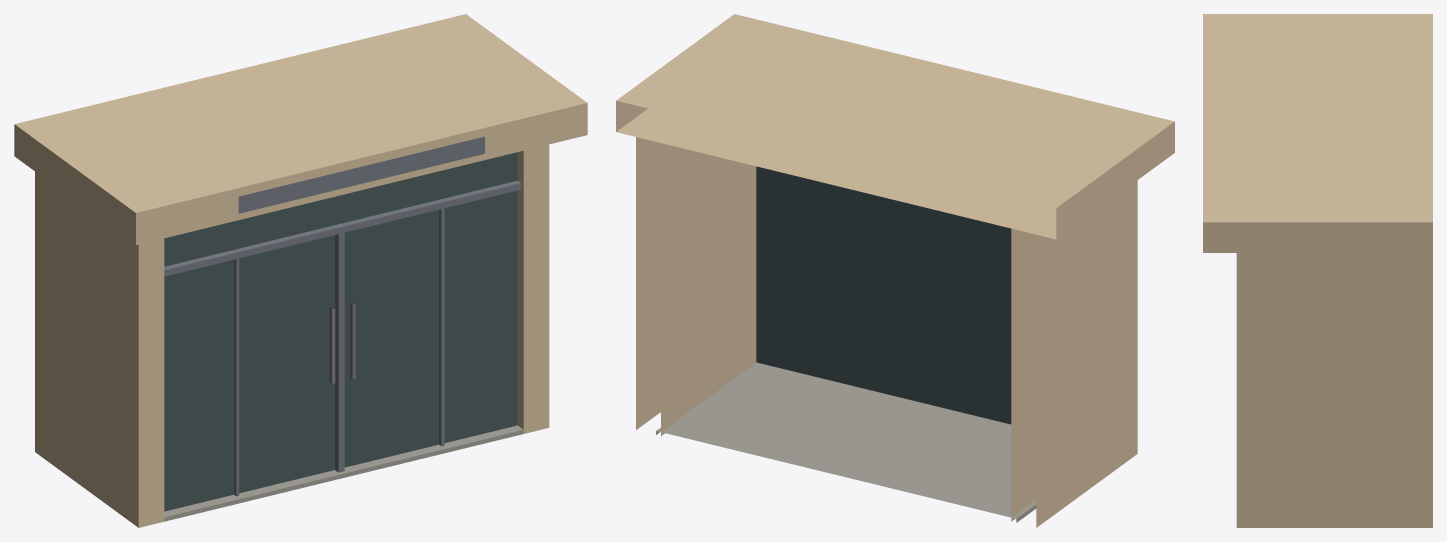
File: entrance_close.fbx
3 renders of one model, left to right at view 1: azimuth 30°, elevation 25°; view 2: azimuth 150°, elevation 25°; view 3: azimuth 270°, elevation 25°, orthographic. The views are drawn at different scales.
Visible parts, largest first — view 1: a2012/400/entrance_close; view 2: a2012/400/entrance_close; view 3: a2012/400/entrance_close.
Part boxes in pixels (bbox=[...]): a2012/400/entrance_close: bbox=[14, 14, 587, 527]; a2012/400/entrance_close: bbox=[616, 14, 1174, 527]; a2012/400/entrance_close: bbox=[1203, 14, 1432, 527].
Bounding box in the file's own units: 4.4 × 3.1 × 2.05.
